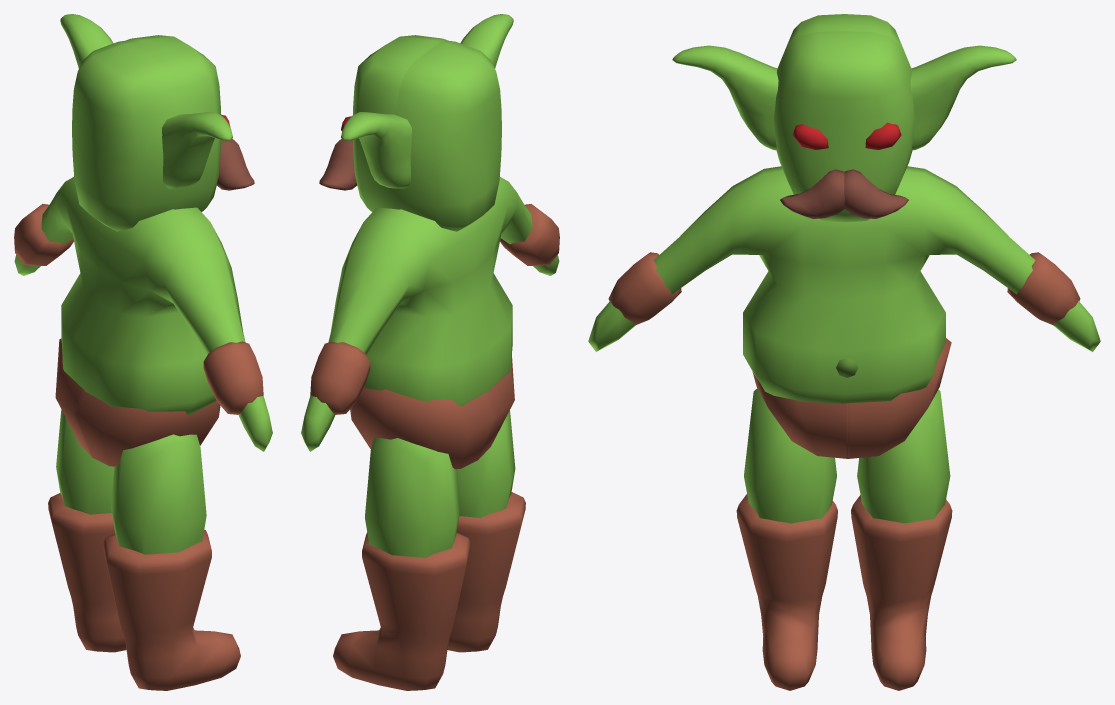
File: TankGoblin.fbx
3 renders of one model, left to right at view 1: azimuth 30°, elevation 25°; view 2: azimuth 150°, elevation 25°; view 3: azimuth 270°, elevation 25°, orthographic. The views are drawn at different scales.
Parts seen in each view (by area): view 1: Cube.002, Cube.003, Cube.005, Cube, Cube.006, Cube.004, Cube.001, Cube.007; view 2: Cube.002, Cube.003, Cube.005, Cube, Cube.006, Cube.004, Cube.001, Cube.007; view 3: Cube.002, Cube.005, Cube.003, Cube, Cube.004, Cube.006, Cube.001, Cube.007, Cube.008.
Part boxes in pixels (left/top/right/bottom): Cube.002: left=14, top=177, right=272, bottom=451; Cube.003: left=72, top=35, right=220, bottom=231; Cube.005: left=48, top=493, right=240, bottom=690; Cube: left=56, top=409, right=206, bottom=554; Cube.006: left=55, top=338, right=220, bottom=466; Cube.004: left=60, top=14, right=232, bottom=188; Cube.001: left=14, top=204, right=263, bottom=414; Cube.007: left=216, top=138, right=254, bottom=190; Cube.002: left=301, top=177, right=559, bottom=451; Cube.003: left=353, top=35, right=501, bottom=231; Cube.005: left=333, top=492, right=525, bottom=690; Cube: left=365, top=410, right=515, bottom=557; Cube.006: left=350, top=356, right=514, bottom=469; Cube.004: left=341, top=14, right=513, bottom=188; Cube.001: left=310, top=204, right=559, bottom=414; Cube.007: left=319, top=138, right=357, bottom=190; Cube.002: left=588, top=166, right=1100, bottom=403; Cube.005: left=736, top=494, right=952, bottom=690; Cube.003: left=774, top=14, right=914, bottom=222; Cube: left=744, top=388, right=950, bottom=523; Cube.004: left=672, top=45, right=1016, bottom=150; Cube.006: left=752, top=338, right=951, bottom=458; Cube.001: left=608, top=252, right=1080, bottom=325; Cube.007: left=780, top=169, right=908, bottom=218; Cube.008: left=792, top=122, right=901, bottom=149.
Size of the model in its own units: 383 by 1419 by 1032.
